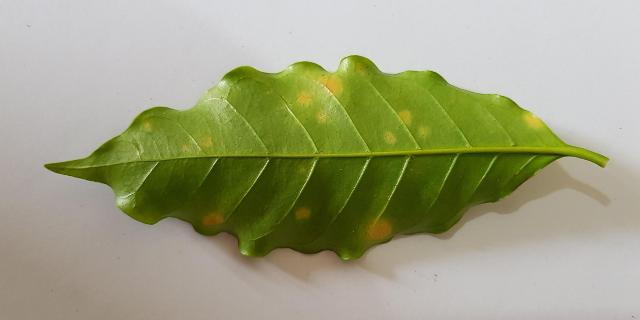miner: (366, 218, 392, 244), (317, 77, 342, 100), (182, 135, 214, 152), (202, 212, 226, 226), (525, 112, 547, 127), (397, 110, 412, 126), (298, 91, 312, 105), (315, 110, 326, 123), (296, 208, 310, 218), (384, 132, 396, 143), (141, 122, 151, 131), (418, 127, 429, 135)
